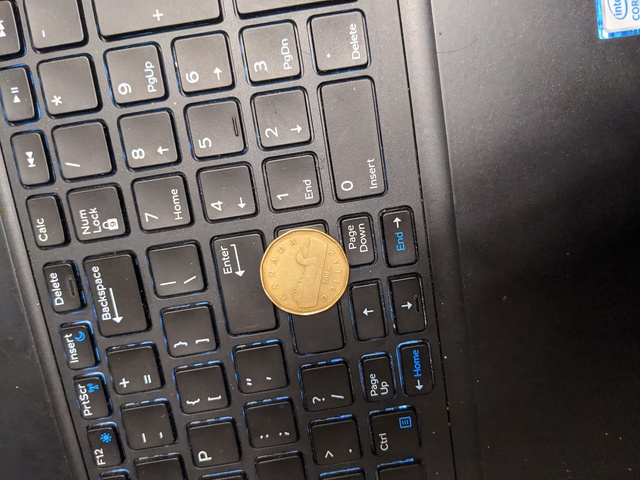loonie: (251, 213, 358, 317)
